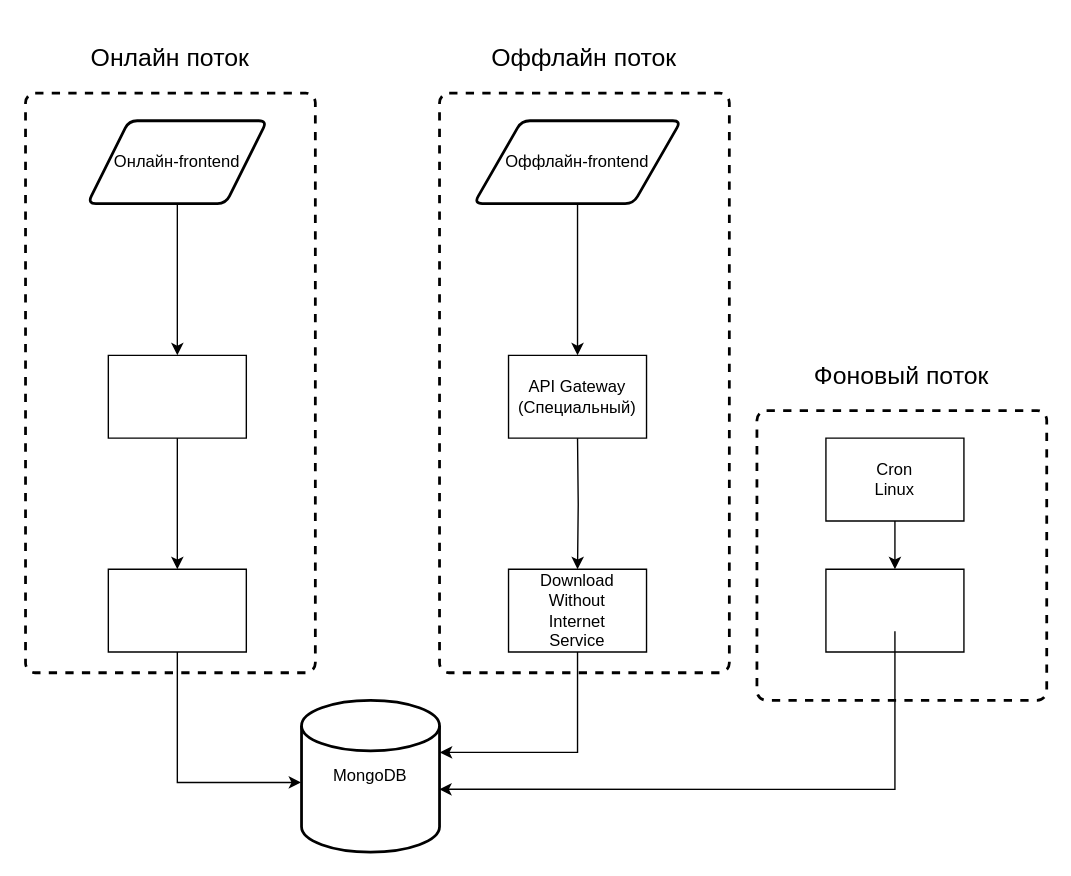
The diagram is 1071 pixels wide and 876 high, and some of its shapes have lost their labels. Each missing label, with the centre of its shape:
API Gateway (Основной): point 176,396
Auto Download Service: point 894,610
Viewing Info Service: point 176,610
